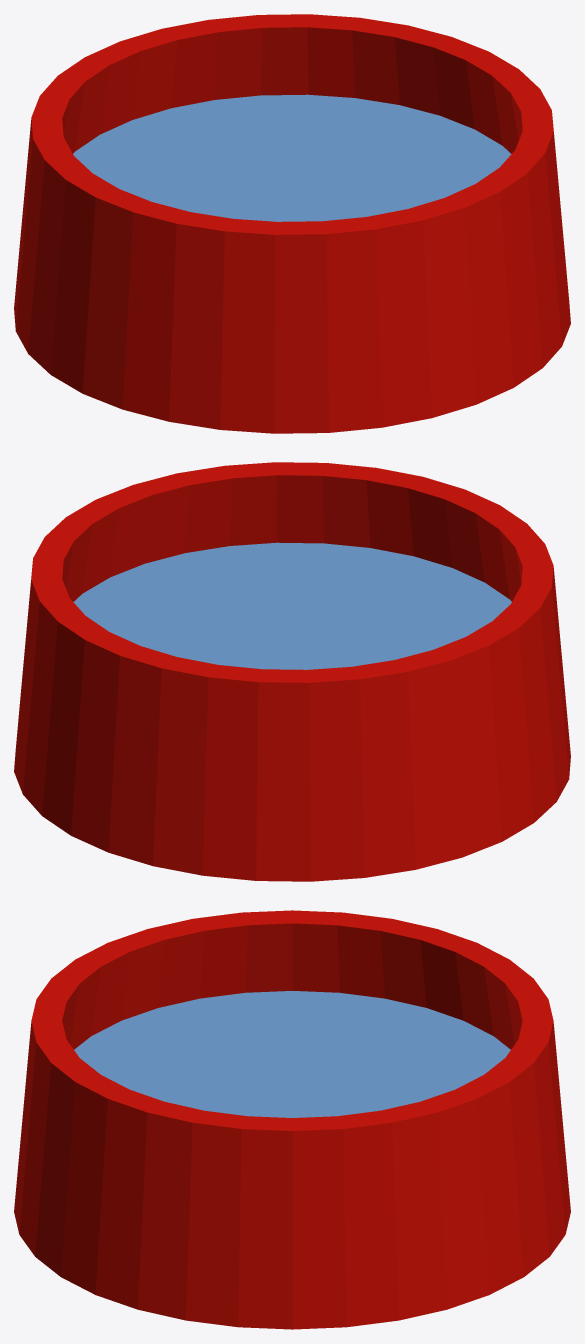
File: DogWaterBowl.fbx
The picture shows the model from 3 angles, top to bottom: view 1: azimuth 30°, elevation 25°; view 2: azimuth 150°, elevation 25°; view 3: azimuth 270°, elevation 25°; orthographic projection.
Parts seen in each view (by area): view 1: DogBowl; view 2: DogBowl; view 3: DogBowl.
Part boxes in pixels (box(x1,y1,x2,y2)): DogBowl: box(14, 14, 570, 433); DogBowl: box(14, 462, 570, 881); DogBowl: box(14, 910, 570, 1329).
Bounding box in the file's own units: 267 × 101 × 267.
